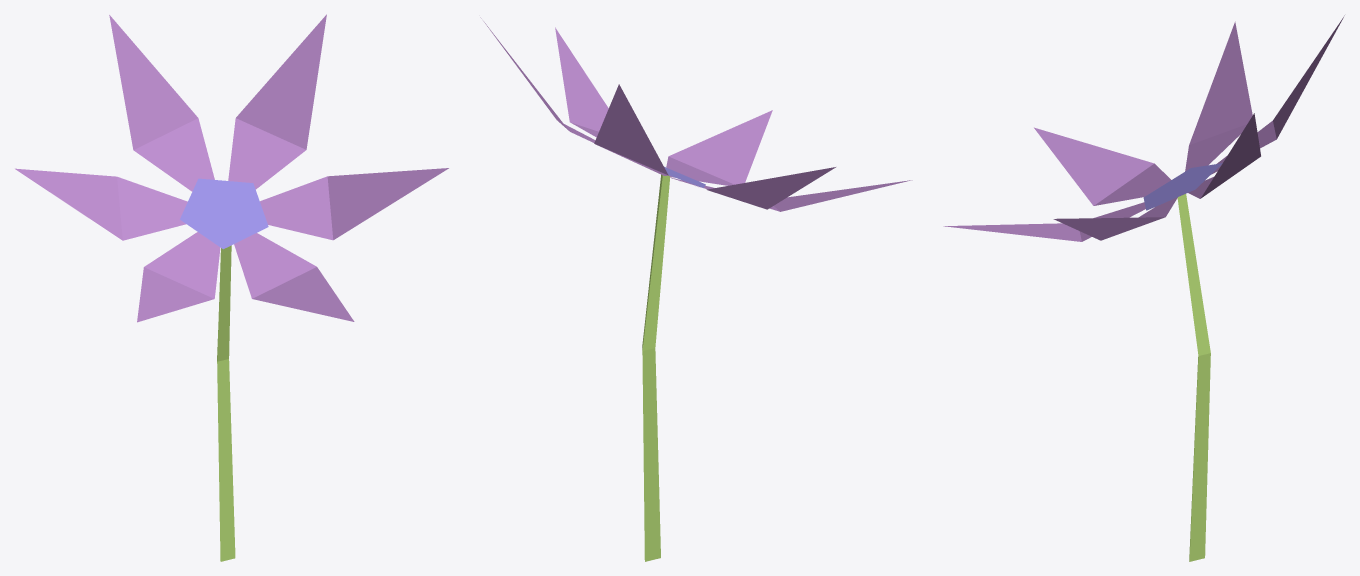
File: Flower_b_OneS_03.fbx
3 renders of one model, left to right at view 1: azimuth 30°, elevation 25°; view 2: azimuth 150°, elevation 25°; view 3: azimuth 270°, elevation 25°, orthographic. The views are drawn at different scales.
Visible parts, largest first — view 1: Flower_b_OneS_03; view 2: Flower_b_OneS_03; view 3: Flower_b_OneS_03.
Boxes of the visible parts, x1,y1,x2,y2 form: Flower_b_OneS_03: [15, 14, 448, 561]; Flower_b_OneS_03: [480, 17, 912, 561]; Flower_b_OneS_03: [943, 15, 1344, 561].
Size of the model in its own units: 0.3619 by 0.4985 by 0.3491.
